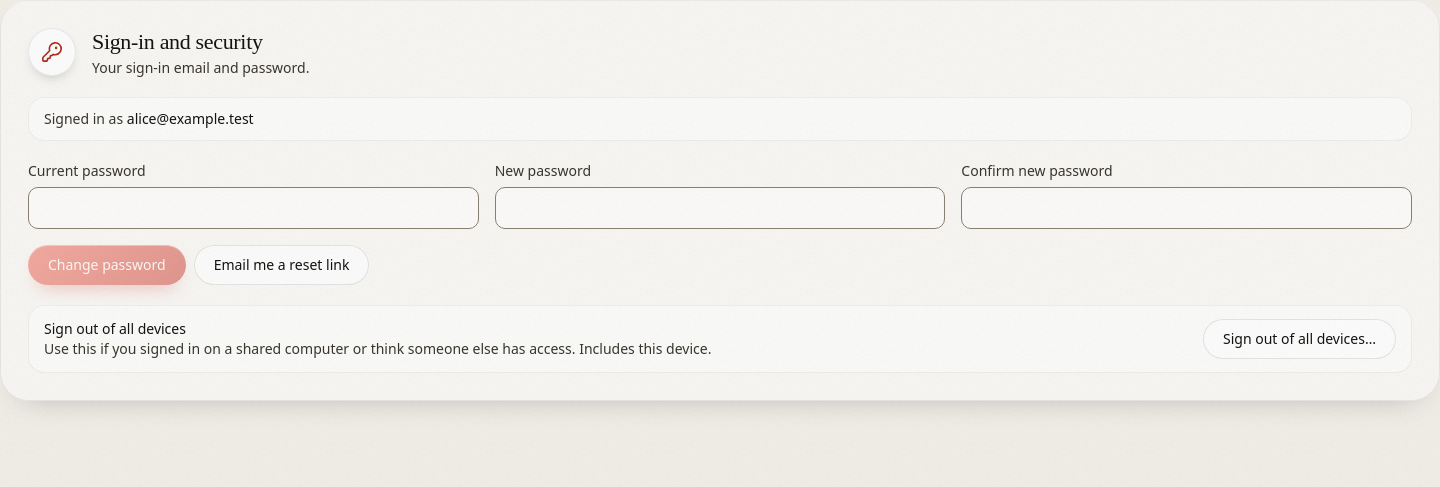
Test: security › shows the friendly message when the current password is wrong
The width and height of the screenshot is (1440, 487).
Type "wrong-one" into the password field labelled "Current password".
click(253, 208); type("wrong-one")  # box [28,187,479,229]
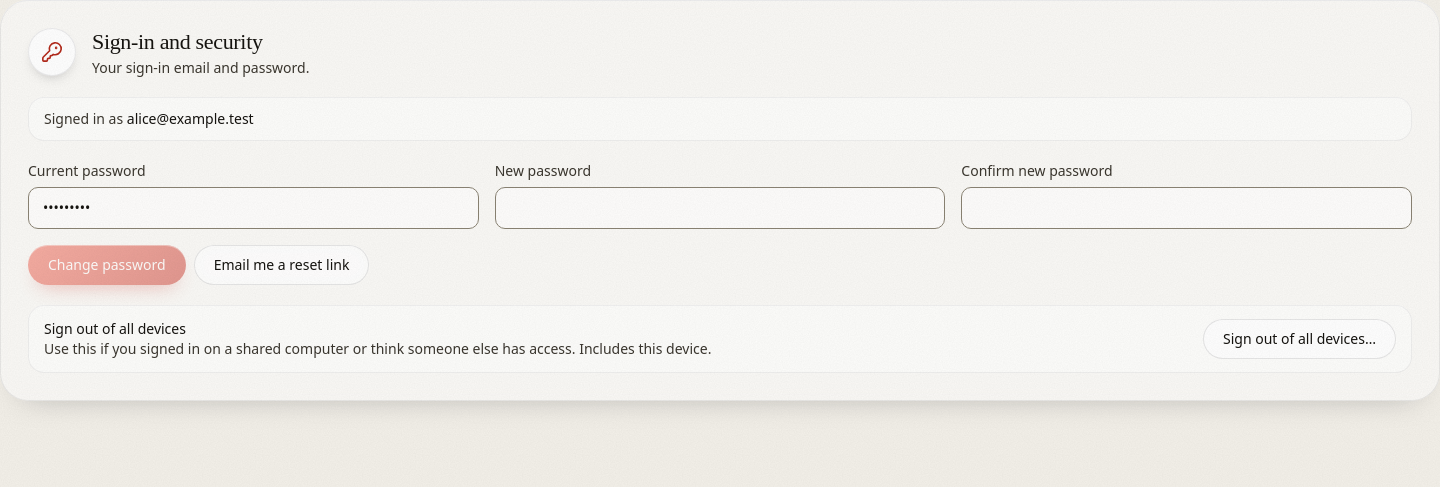
Type "a-new-password" into the password field labelled "New password".
click(720, 208); type("a-new-password")  # box [495,187,945,229]
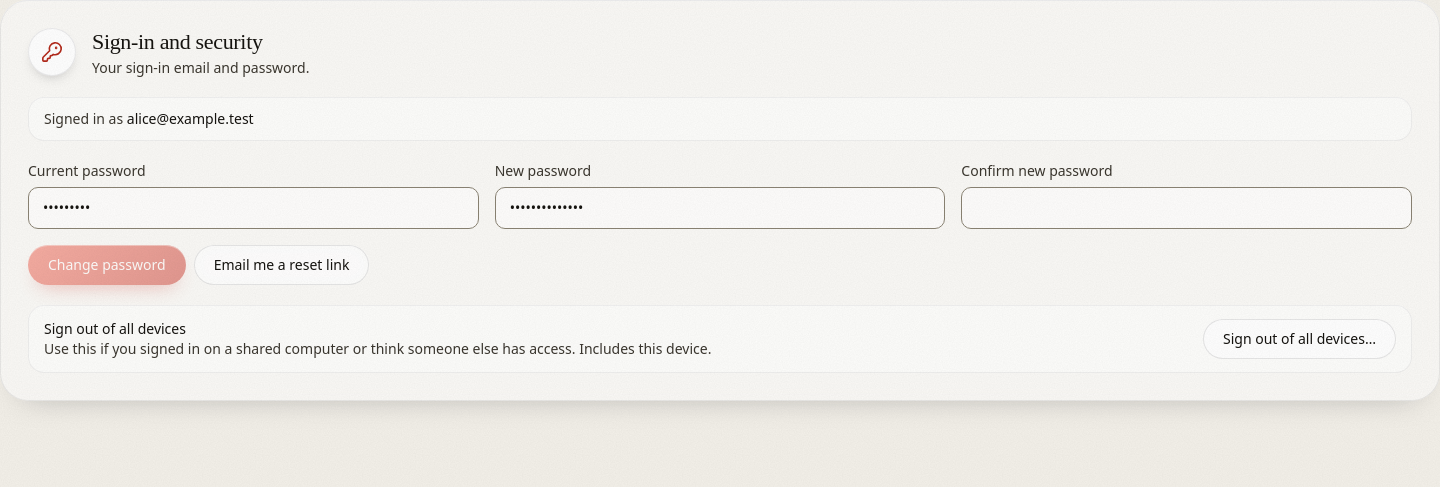
Type "a-new-password" into the password field labelled "Confirm new password".
click(1187, 208); type("a-new-password")  # box [961,187,1412,229]
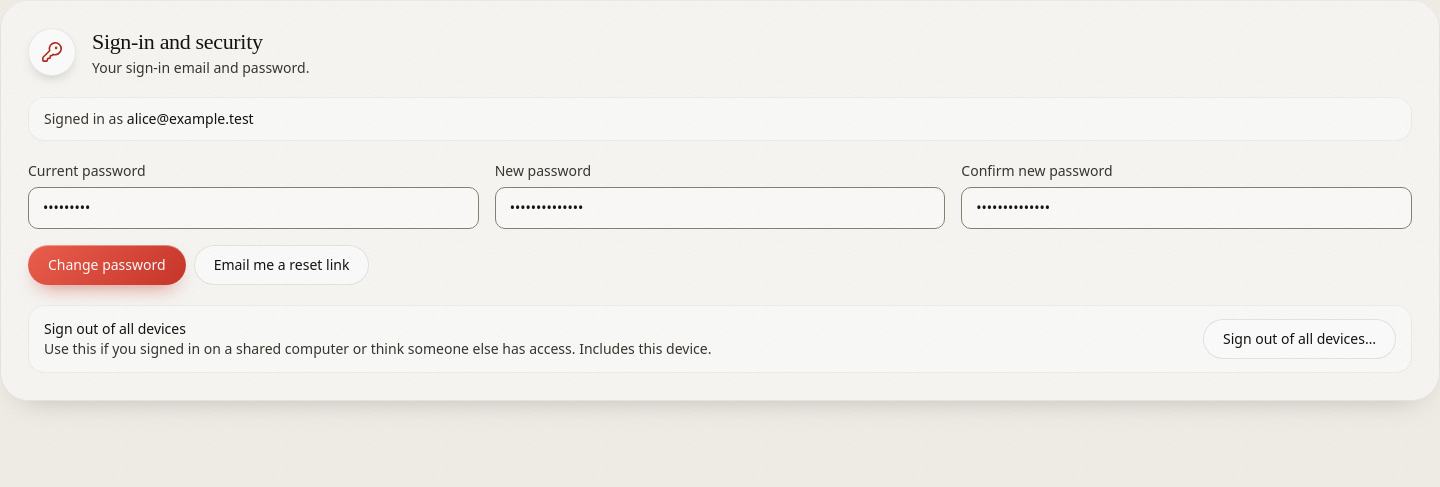
Click the button "Change password".
click(107, 265)  # box [28,245,186,285]
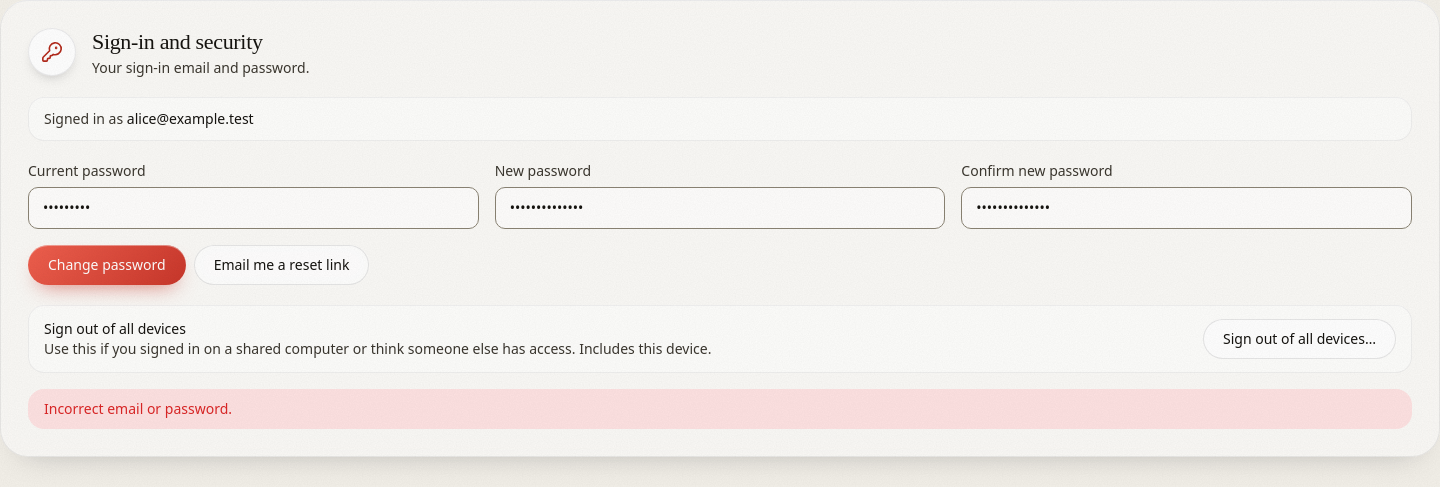
Expected: the message reads "Incorrect email or password.", [44,399,232,418]
